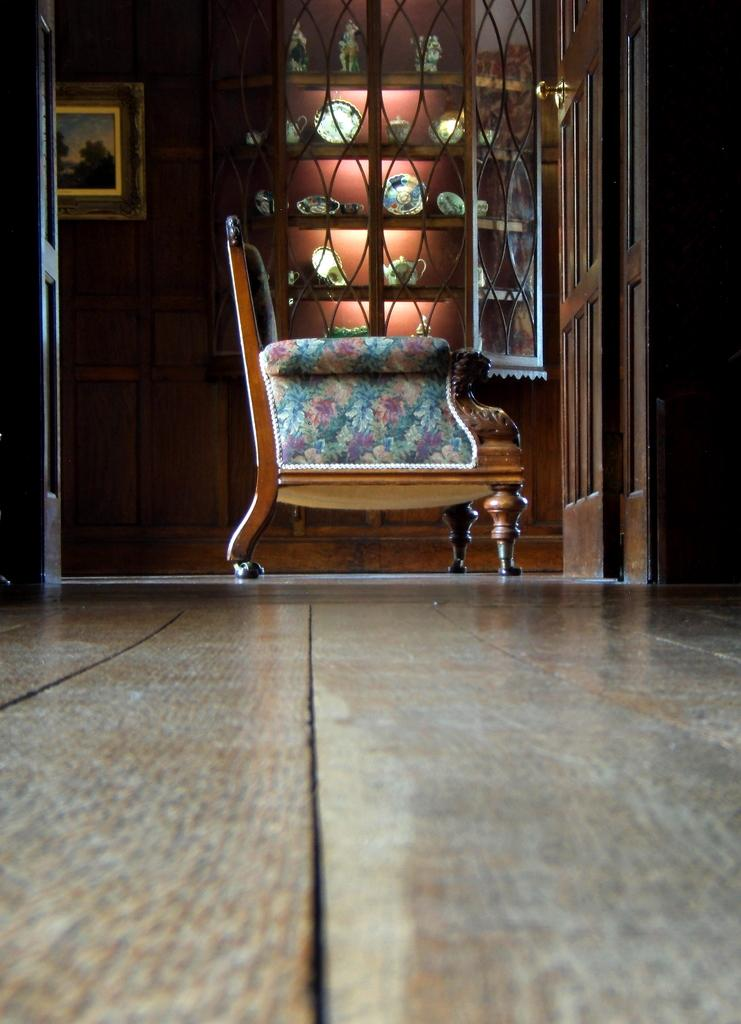Chair: (217, 227, 537, 565)
